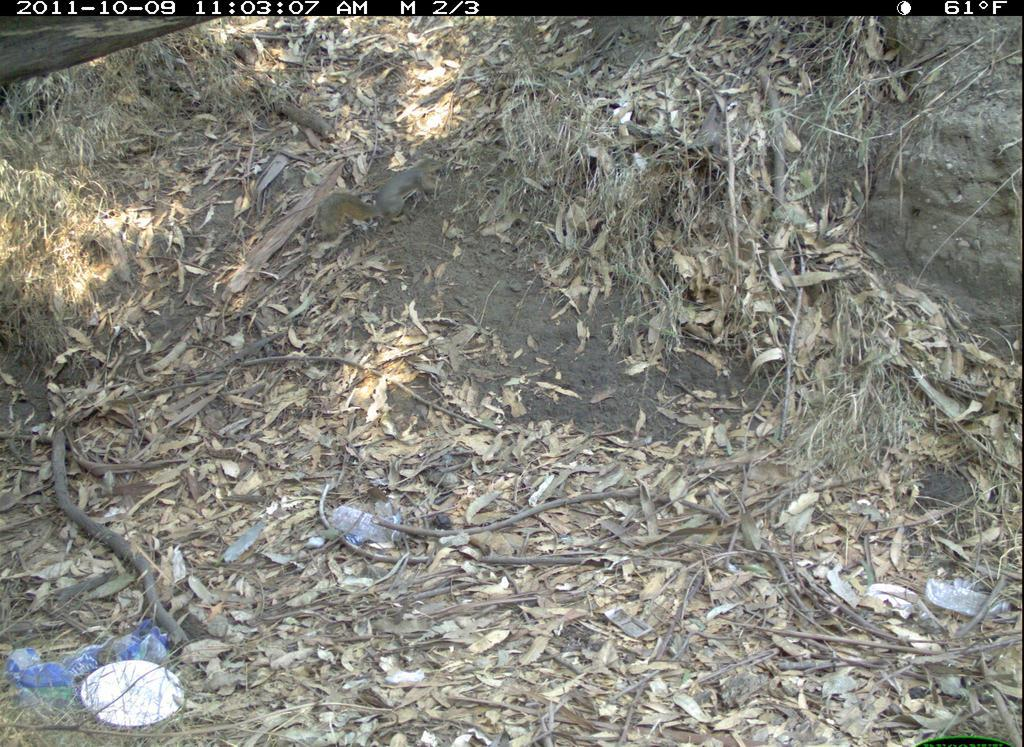squirrel: (307, 153, 445, 242)
